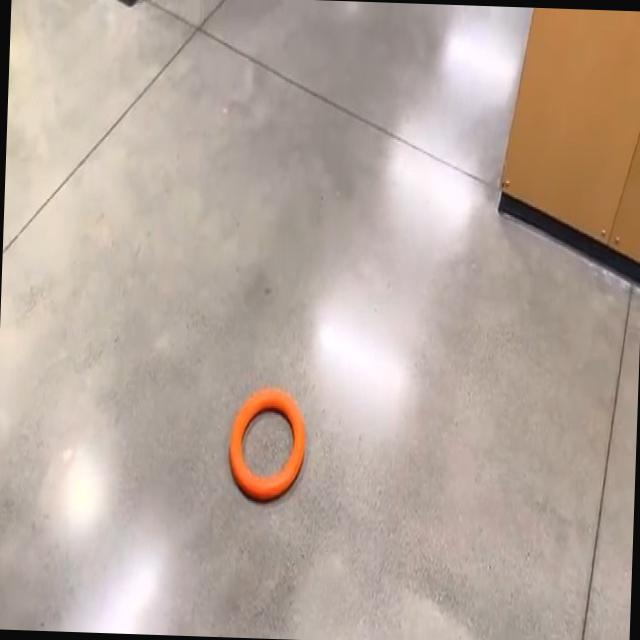note: (230, 387, 304, 500)
